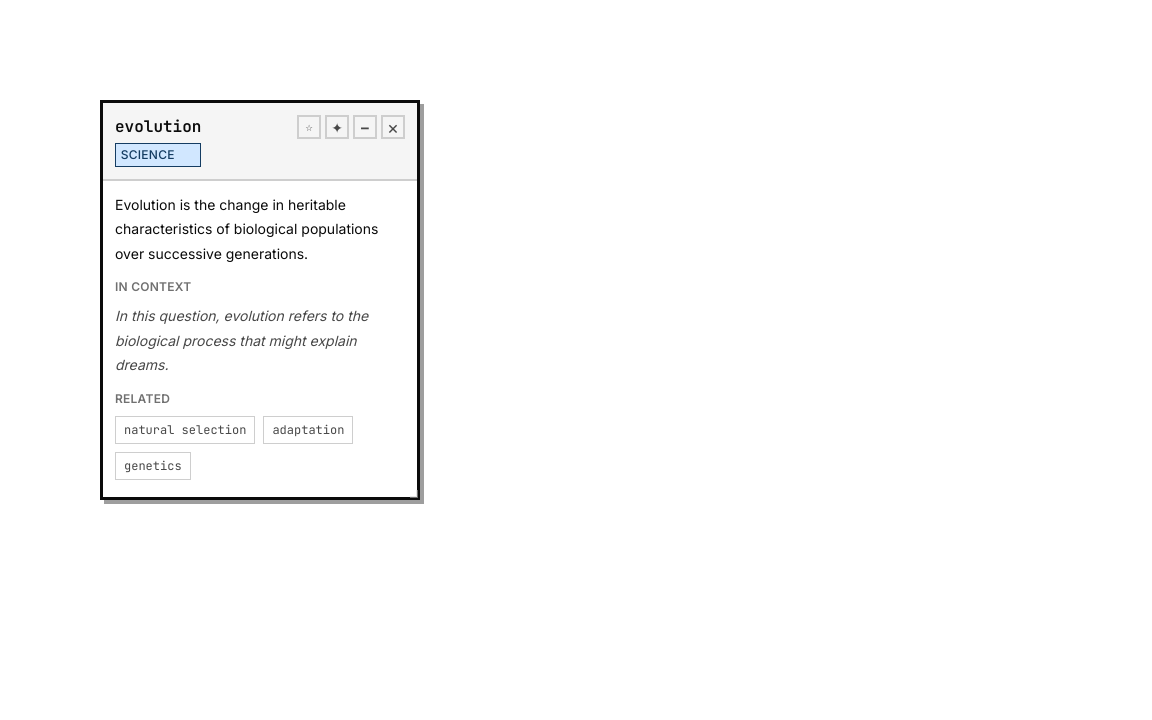
Test: ConceptPopup › minimize › should hide content when minimized
Expected: the text "Evolution is the change in heritable characteristics of biological populations over successive generations." is shown, 115,196 -> 378,262
# Click minimize
Click the button named "Minimize popup": (365,127) 353,115 -> 377,139
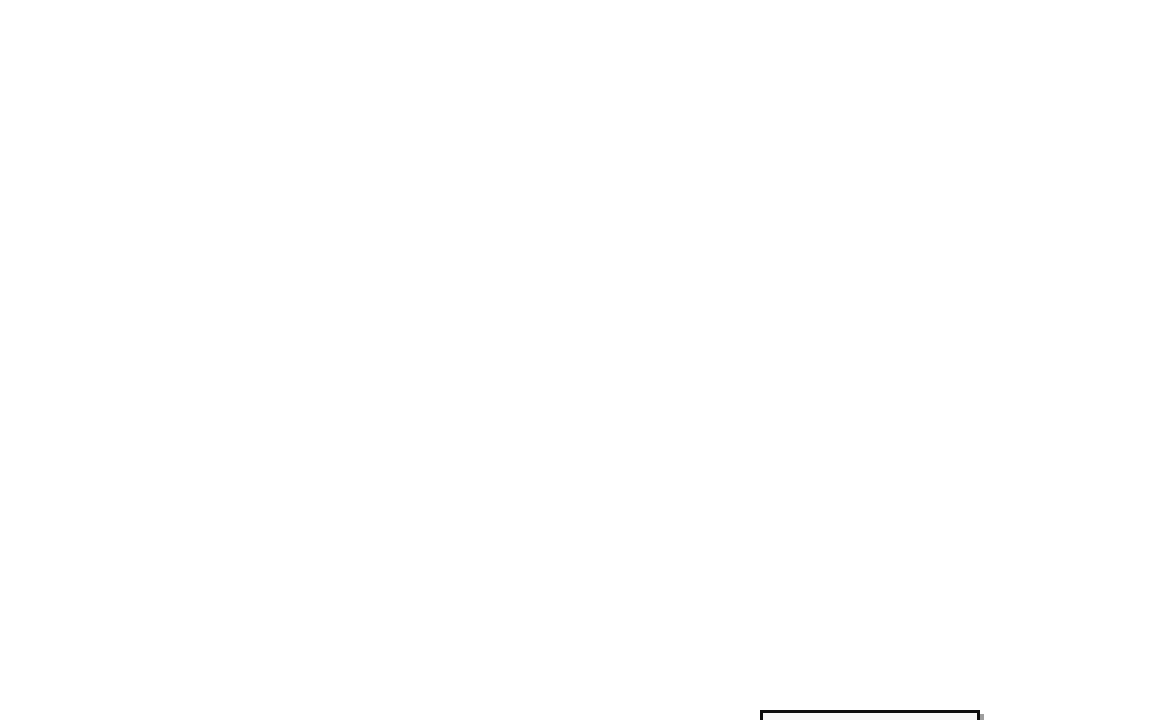
Now the text "Evolution is the change in heritable characteristics of biological populations over successive generations." is gone
